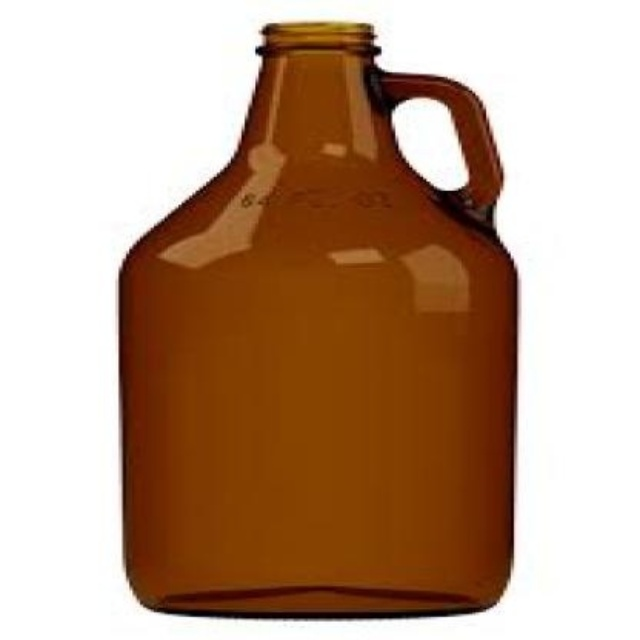trash: (120, 23, 515, 615), (389, 97, 468, 191)
